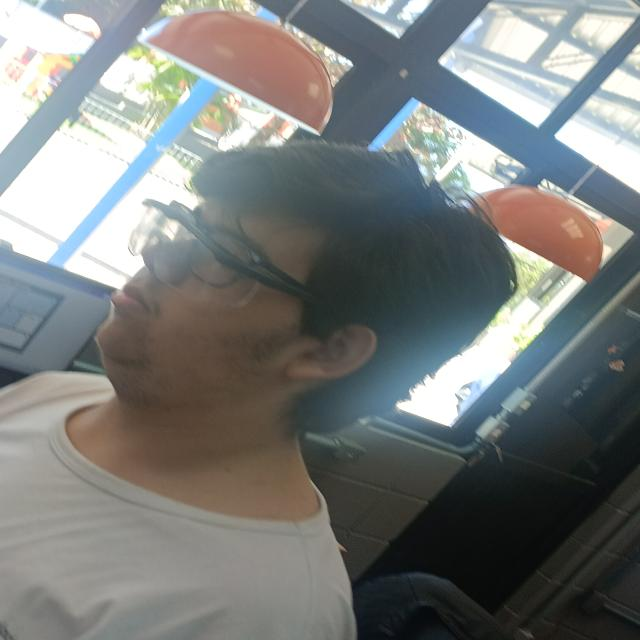oculos-epi: (127, 199, 369, 323)
